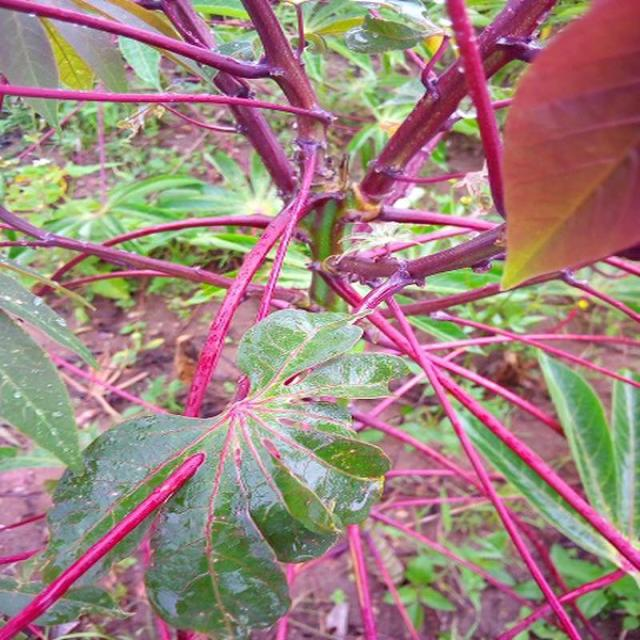cassava leaf: (27, 304, 410, 638), (498, 0, 638, 291)
